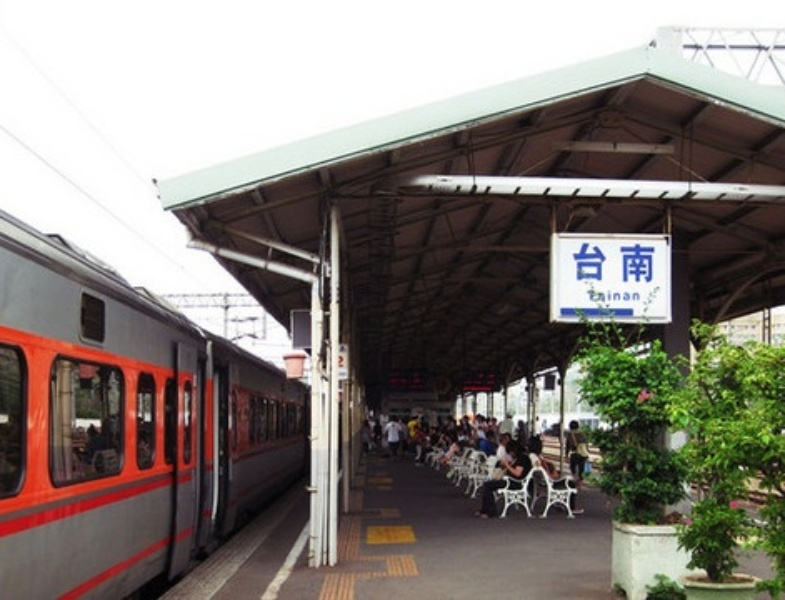text: (641, 241, 657, 284), (577, 241, 592, 284), (593, 241, 608, 284), (609, 241, 624, 284), (625, 241, 640, 284), (572, 241, 576, 284), (609, 291, 624, 302), (625, 291, 640, 302), (606, 291, 608, 302), (641, 291, 642, 302)
